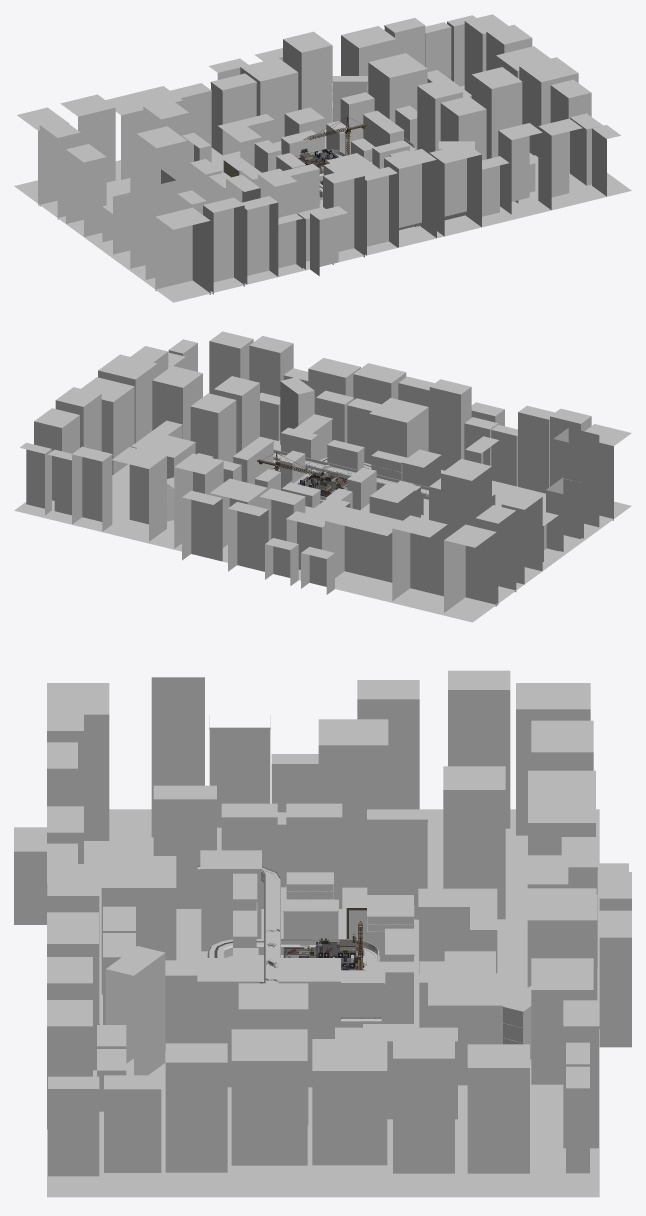
Rendered from Helispot_World.obj.
3 views of the same model, one above another, from view 1: azimuth 30°, elevation 25°; view 2: azimuth 150°, elevation 25°; view 3: azimuth 270°, elevation 25° (orthographic). The views are drawn at different scales.
Parts seen in each view (by area): view 1: Helispot_Out_Side, Helispot_World_Object; view 2: Helispot_Out_Side, Helispot_World_Object; view 3: Helispot_Out_Side, Helispot_World_Object.
Part boxes in pixels (<box>): Helispot_Out_Side: <box>14,14,631,302</box>; Helispot_World_Object: <box>295,116,415,203</box>; Helispot_Out_Side: <box>14,331,631,622</box>; Helispot_World_Object: <box>257,449,428,503</box>; Helispot_Out_Side: <box>14,670,631,1197</box>; Helispot_World_Object: <box>197,865,381,1027</box>.
Bounding box in the file's own units: 605 × 119 × 407.
